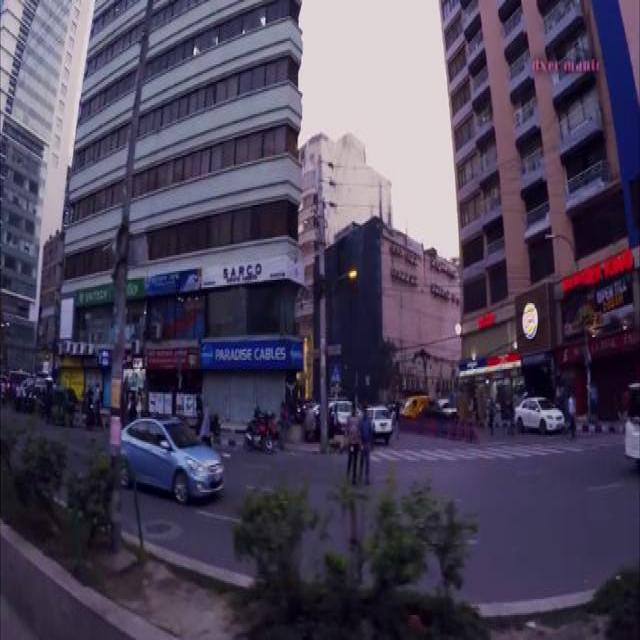car: (117, 413, 223, 502), (512, 395, 564, 430), (365, 406, 391, 438)
minivan: (397, 394, 428, 414)
motorbike: (242, 417, 274, 451)
three wheelers -CNG-: (47, 384, 75, 424)
